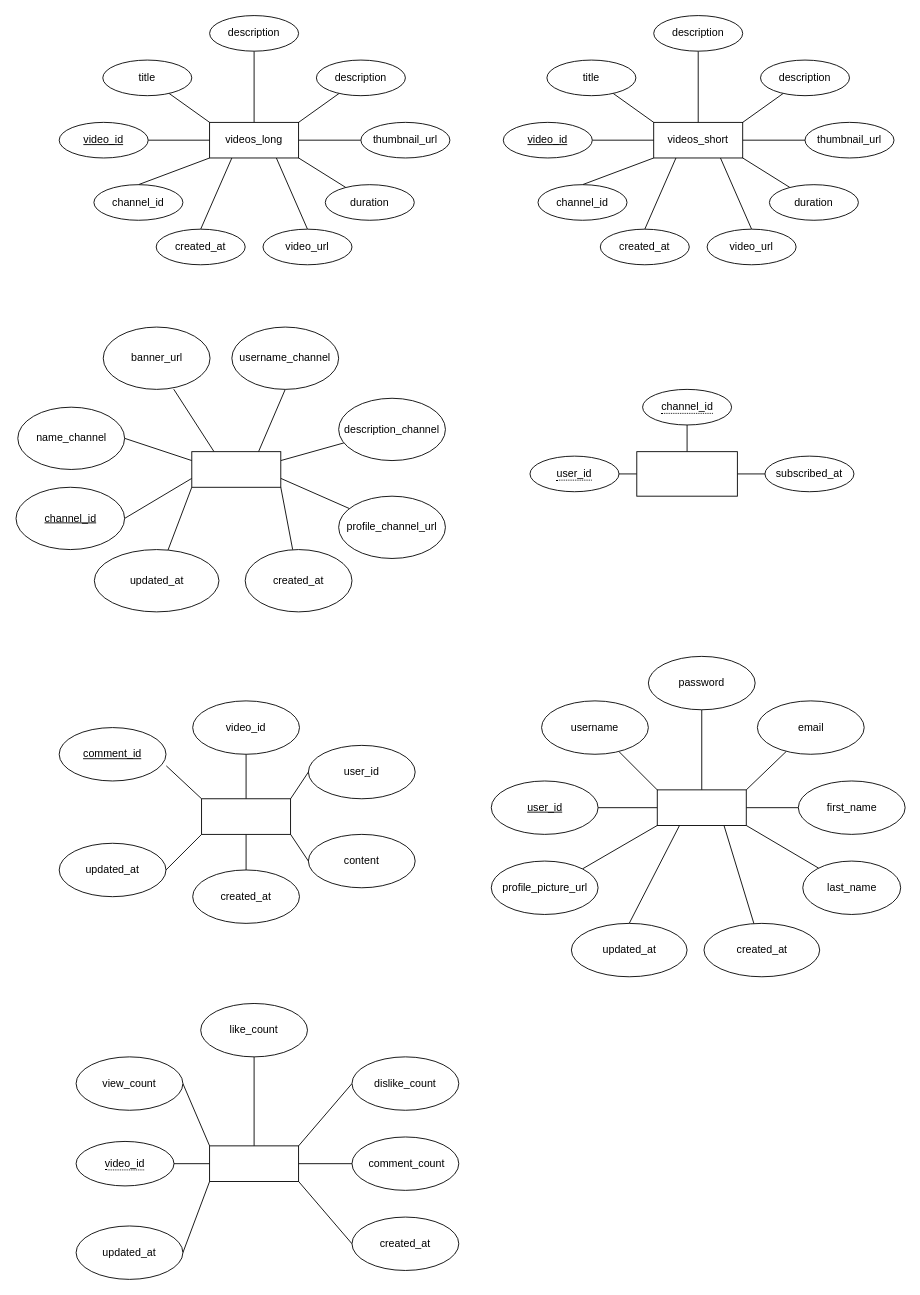
The diagram is 920 pixels wide and 1295 high, and some of its shapes have lost their labels. Each missing label, with the box of its shape:
channel_subscribe: (636, 451, 737, 496)
channels: (191, 451, 281, 487)
comment: (201, 798, 291, 834)
popular: (209, 1145, 299, 1181)
users: (656, 789, 746, 825)
